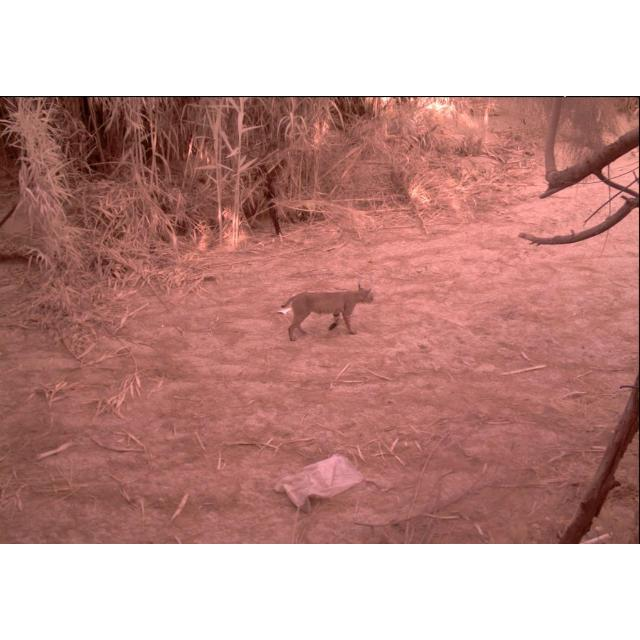animals: (278, 284, 377, 342)
